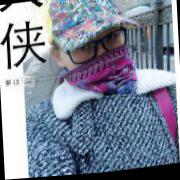WRONG: (67, 21, 131, 94)
